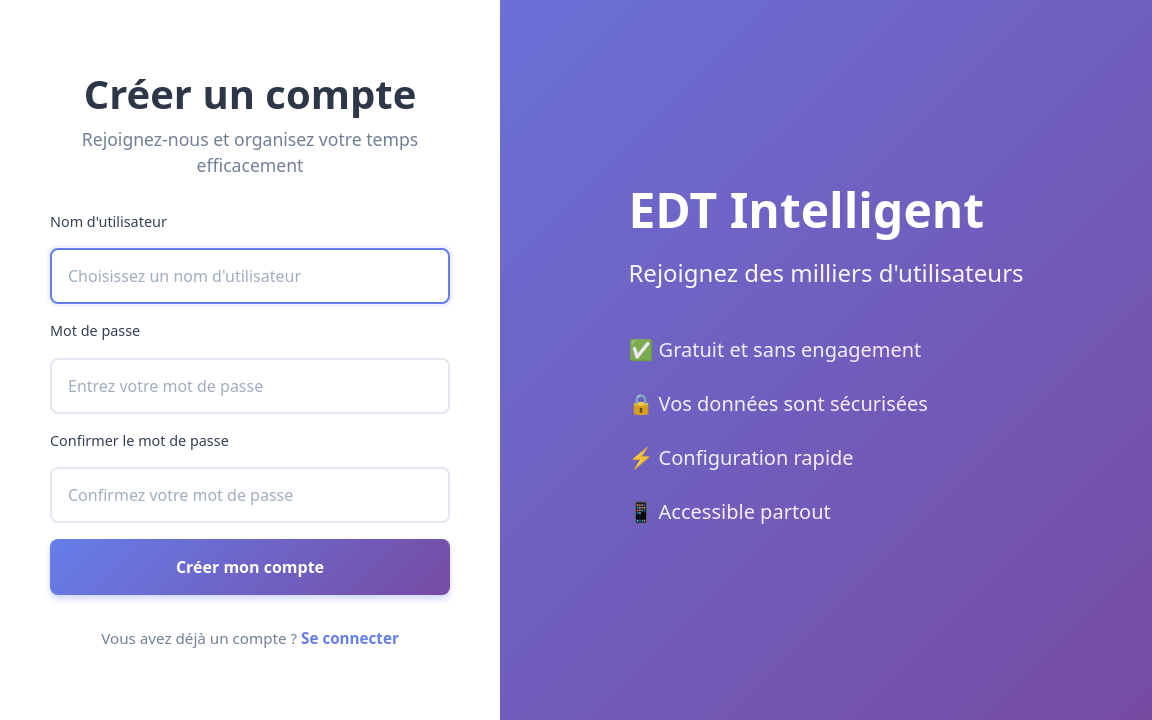
Test: RegisterPage › affiche une erreur si les mots de passe ne correspondent pas
Type "newuser" into the field labelled "Nom d'utilisateur" at coordinates (250, 276), box 50,248 -> 450,304
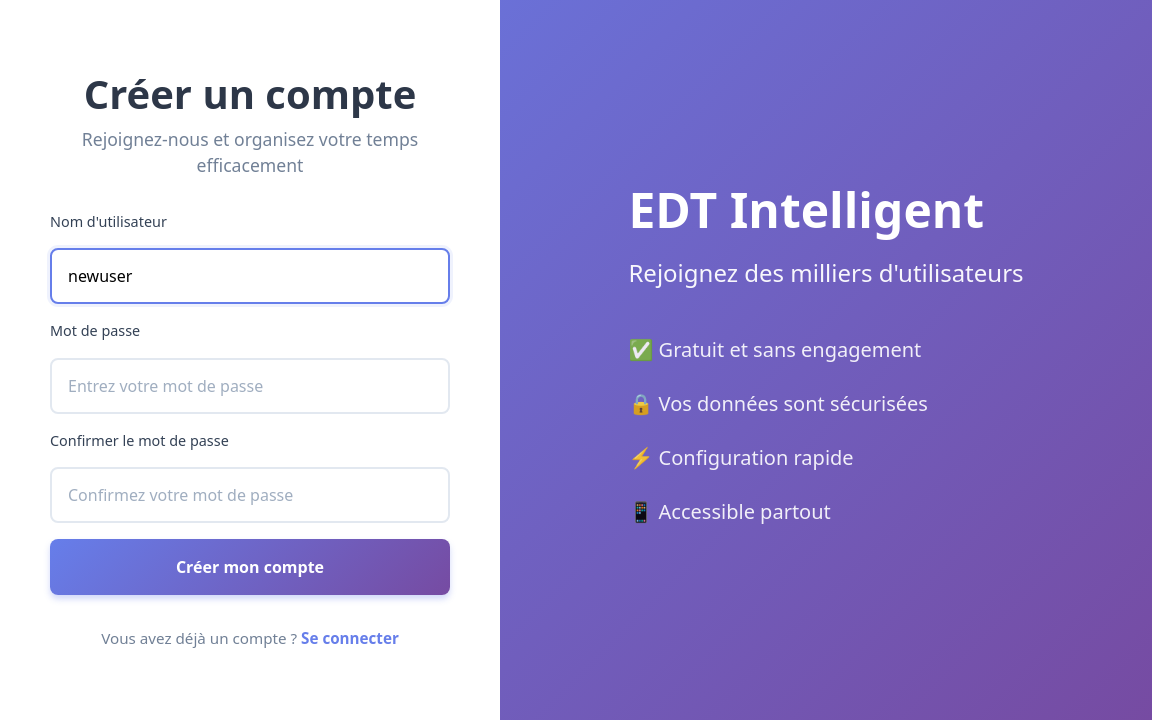
Type "1234" into the password field labelled "Mot de passe" at coordinates (250, 386), box 50,358 -> 450,414
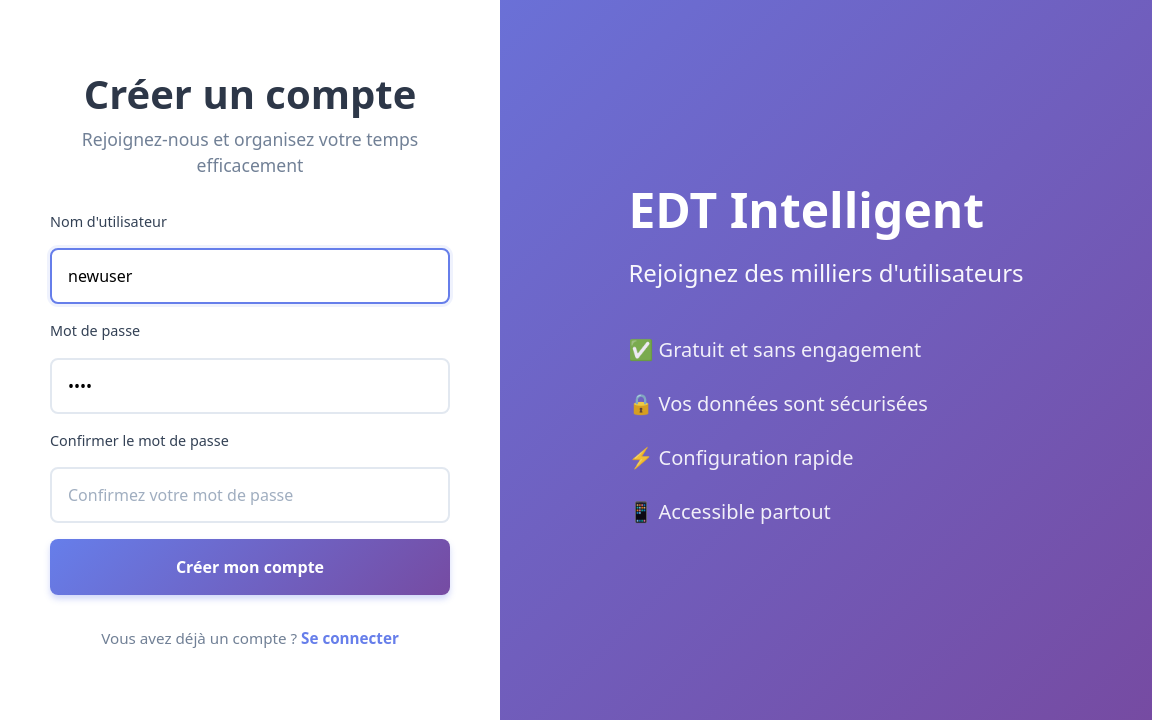
Type "5678" into the password field labelled "Confirmer le mot de passe" at coordinates (250, 495), box 50,467 -> 450,523
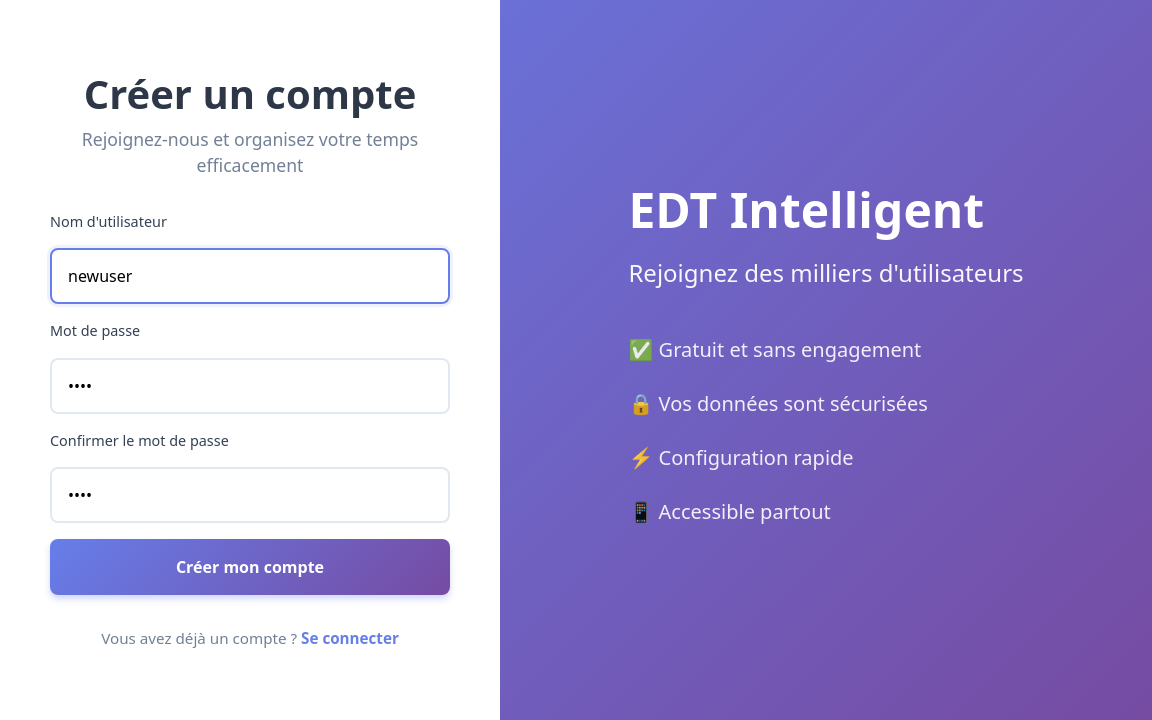
Click the button "Créer mon compte" at coordinates (250, 567), box 50,539 -> 450,595
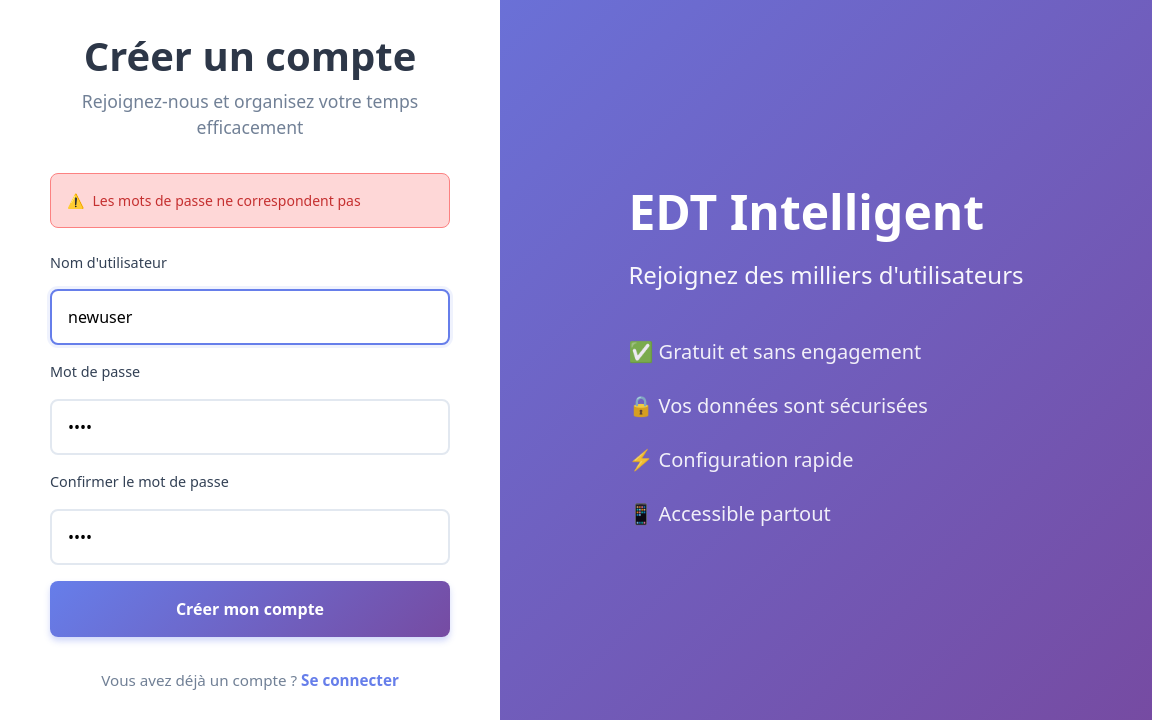
Expected: the text "⚠️ Les mots de passe ne correspondent pas" is shown, 50,173 -> 450,228
